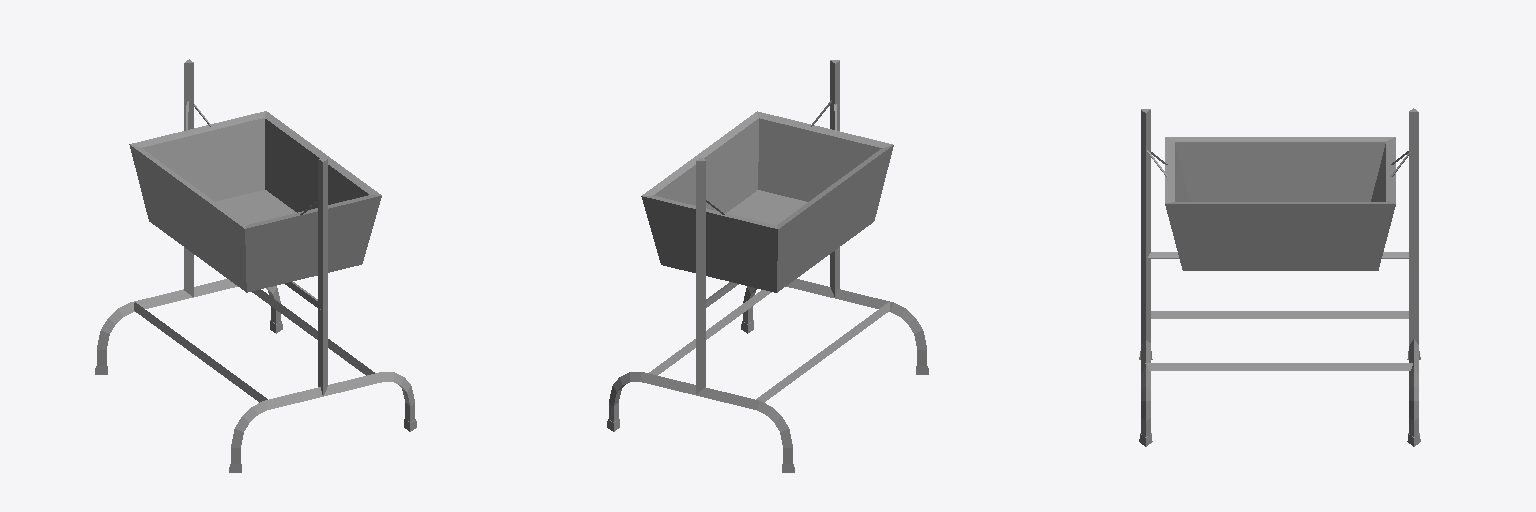
File: bady_Bed.obj
3 renders of one model, left to right at view 1: azimuth 30°, elevation 25°; view 2: azimuth 150°, elevation 25°; view 3: azimuth 270°, elevation 25°, orthographic.
Parts seen in each view (by area): view 1: bady_Bed_bady_Bed-uvlayout; view 2: bady_Bed_bady_Bed-uvlayout; view 3: bady_Bed_bady_Bed-uvlayout.
Part boxes in pixels (x1,y1,x2,y2): bady_Bed_bady_Bed-uvlayout: (95,59,416,472); bady_Bed_bady_Bed-uvlayout: (607,60,928,472); bady_Bed_bady_Bed-uvlayout: (1139,108,1420,446).
Bounding box in the file's own units: 41.33 × 61.12 × 53.63.